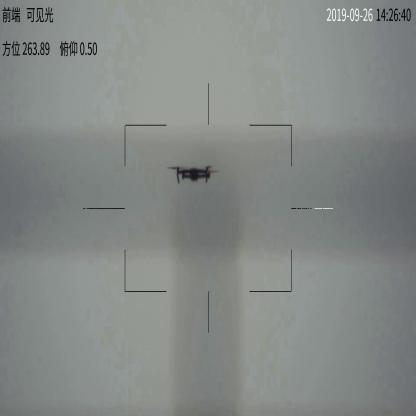uav: (171, 164, 216, 186)
